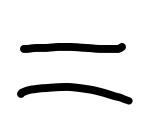eqv: (18, 43, 132, 105)
